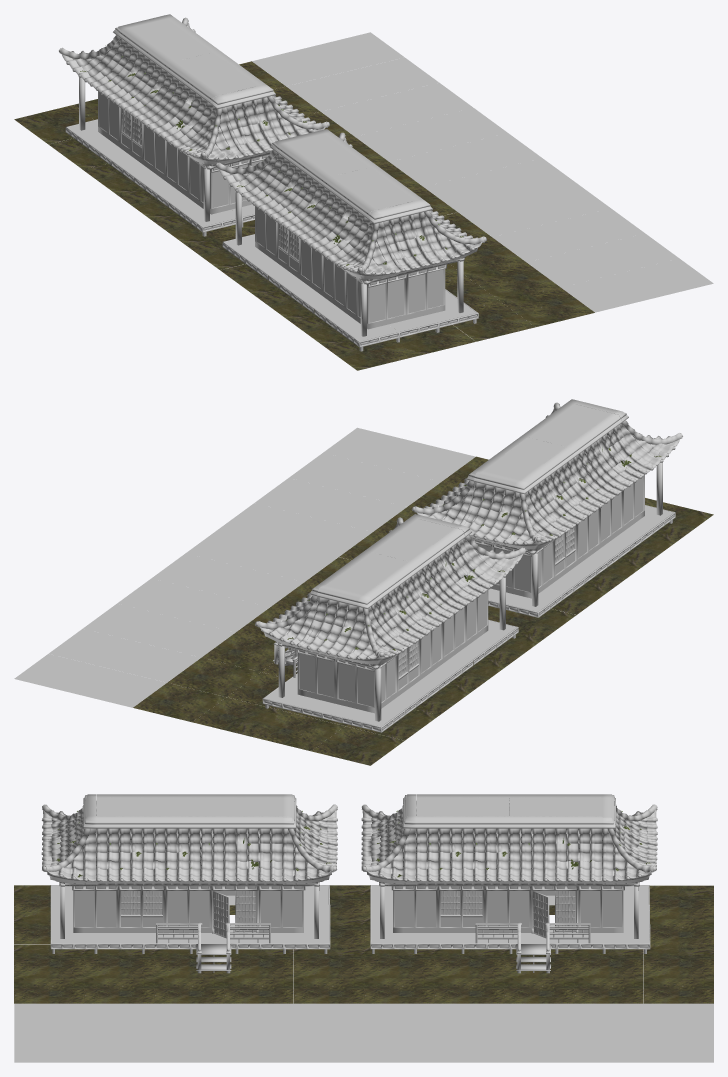
The model's file is LowPoly_JapaneseHouse_PBR.gltf.
The picture shows the model from 3 angles, top to bottom: view 1: azimuth 30°, elevation 25°; view 2: azimuth 150°, elevation 25°; view 3: azimuth 270°, elevation 25°; orthographic projection.
Visible parts, largest first — view 1: RoofSection_01.002, RoofSection_01.011, WallCorner_Int.003, RoofCorner_03.003, RoofCorner_03.006, RoofSection_03.002, RoofSection_03.003, Ground04.019, Ground04.015, Ground03.002, Ground04.007, Ground04.010 (+62 smaller); view 2: RoofSection_01.008, RoofSection_01.005, WallCorner_Int.005, RoofCorner_03.005, RoofCorner_03.004, RoofSection_03.002, Ground03.009, Ground04.005, Ground04.011, Ground04.020, Ground03.010, Ground01.023 (+63 smaller); view 3: RoofSection_03.001, RoofSection_02.001, RoofSection_01.001, RoofSection_01.010, RoofSection_02.004, RoofSection_03.004, RoofSection_01.012, RoofSection_01.003, RoofCorner_03.008, RoofCorner_03.001, RoofCorner_03.002, RoofCorner_03.007 (+87 smaller).
Part boxes in pixels (bbox=[...]): RoofSection_01.002: bbox=[376, 201, 440, 276]; RoofSection_01.011: bbox=[220, 86, 279, 161]; WallCorner_Int.003: bbox=[344, 270, 407, 329]; RoofCorner_03.003: bbox=[334, 210, 405, 284]; RoofCorner_03.006: bbox=[177, 95, 248, 169]; RoofSection_03.002: bbox=[309, 193, 377, 262]; RoofSection_03.003: bbox=[152, 78, 221, 147]; Ground04.019: bbox=[311, 32, 404, 71]; Ground04.015: bbox=[483, 158, 576, 197]; Ground03.002: bbox=[467, 262, 560, 301]; Ground04.007: bbox=[552, 208, 644, 247]; Ground04.010: bbox=[414, 108, 507, 147]; RoofSection_01.008: bbox=[297, 585, 362, 661]; RoofSection_01.005: bbox=[459, 471, 519, 546]; WallCorner_Int.005: bbox=[336, 655, 397, 713]; RoofCorner_03.005: bbox=[336, 595, 407, 669]; RoofCorner_03.004: bbox=[493, 480, 564, 554]; RoofSection_03.002: bbox=[589, 413, 656, 482]; Ground03.009: bbox=[167, 657, 260, 696]; Ground04.005: bbox=[279, 517, 372, 556]; Ground04.011: bbox=[83, 603, 175, 642]; Ground04.020: bbox=[73, 668, 166, 707]; Ground03.010: bbox=[133, 683, 226, 722]; Ground01.023: bbox=[311, 726, 404, 765]; RoofSection_03.001: bbox=[235, 816, 282, 886]; RoofSection_02.001: bbox=[189, 816, 236, 886]; RoofSection_01.001: bbox=[142, 816, 189, 886]; RoofSection_01.010: bbox=[415, 816, 462, 886]; RoofSection_02.004: bbox=[508, 816, 555, 886]; RoofSection_03.004: bbox=[555, 816, 602, 886]; RoofSection_01.012: bbox=[462, 816, 509, 886]; RoofSection_01.003: bbox=[95, 816, 142, 886]; RoofCorner_03.008: bbox=[361, 816, 416, 886]; RoofCorner_03.001: bbox=[42, 816, 96, 886]; RoofCorner_03.002: bbox=[282, 816, 337, 886]; RoofCorner_03.007: bbox=[602, 816, 656, 886].
Size of the model in its own units: 36 by 11.38 by 60.03.
